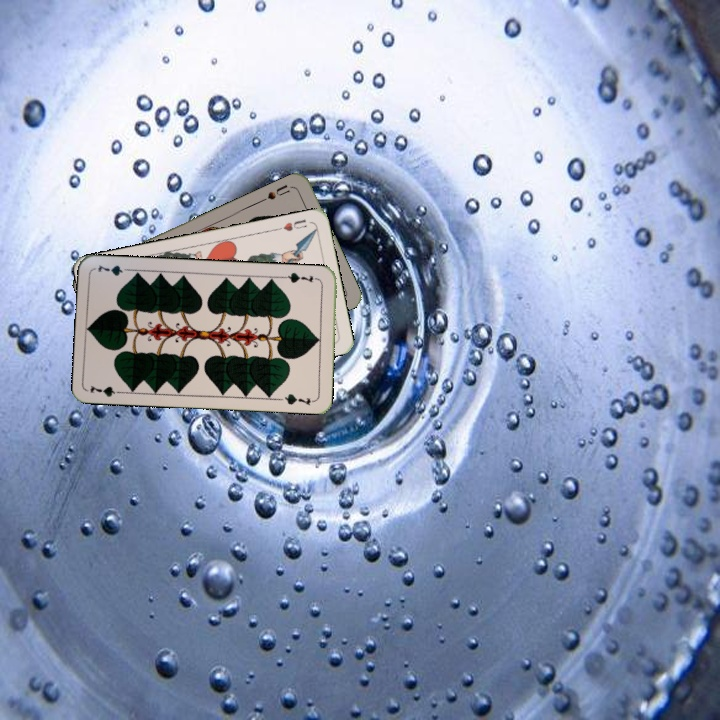G7: (87, 381, 127, 399), (281, 269, 321, 285)
HU: (272, 215, 309, 234)
SU: (257, 180, 296, 204)
